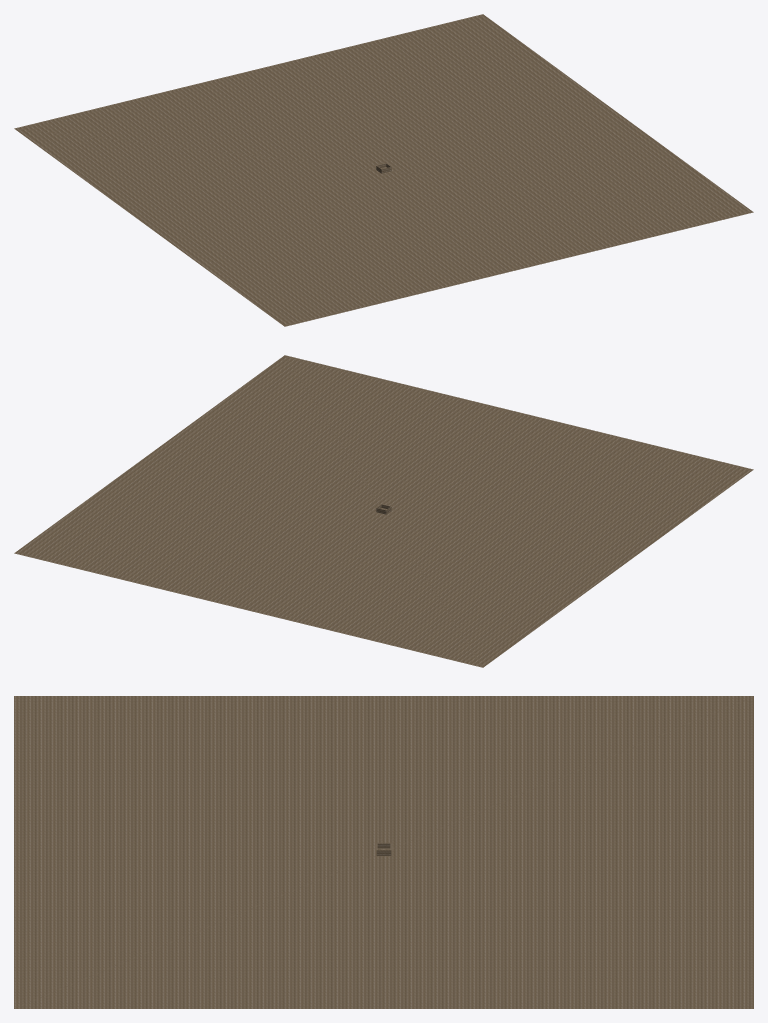
The model's file is caja_para_prueba_instancias.glb.
3 views of the same model, one above another, from view 1: azimuth 30°, elevation 25°; view 2: azimuth 150°, elevation 25°; view 3: azimuth 270°, elevation 25° (orthographic). The views are drawn at different scales.
Parts seen in each view (by area): view 1: caja; view 2: caja; view 3: caja.
Boxes of the visible parts, x1,y1,x2,y2 form: caja: (14,14,753,326); caja: (14,355,753,667); caja: (14,696,753,1008).
Bounding box in the file's own units: 1315 × 11.11 × 1315.
Materials: 1 (1 with a texture image).
